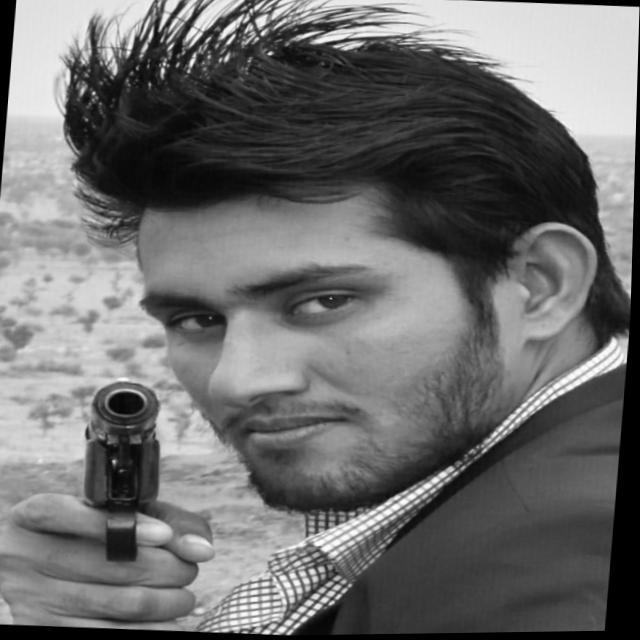weapon: (43, 369, 212, 634)
